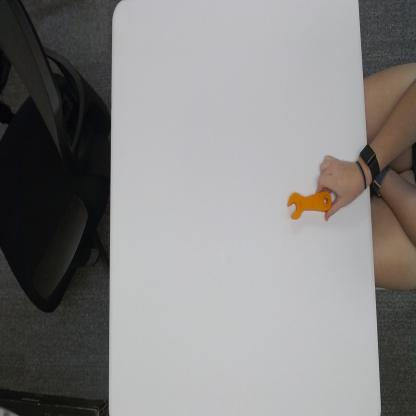Hand: (318, 150, 364, 220)
Screwdriver: (286, 186, 334, 223)
